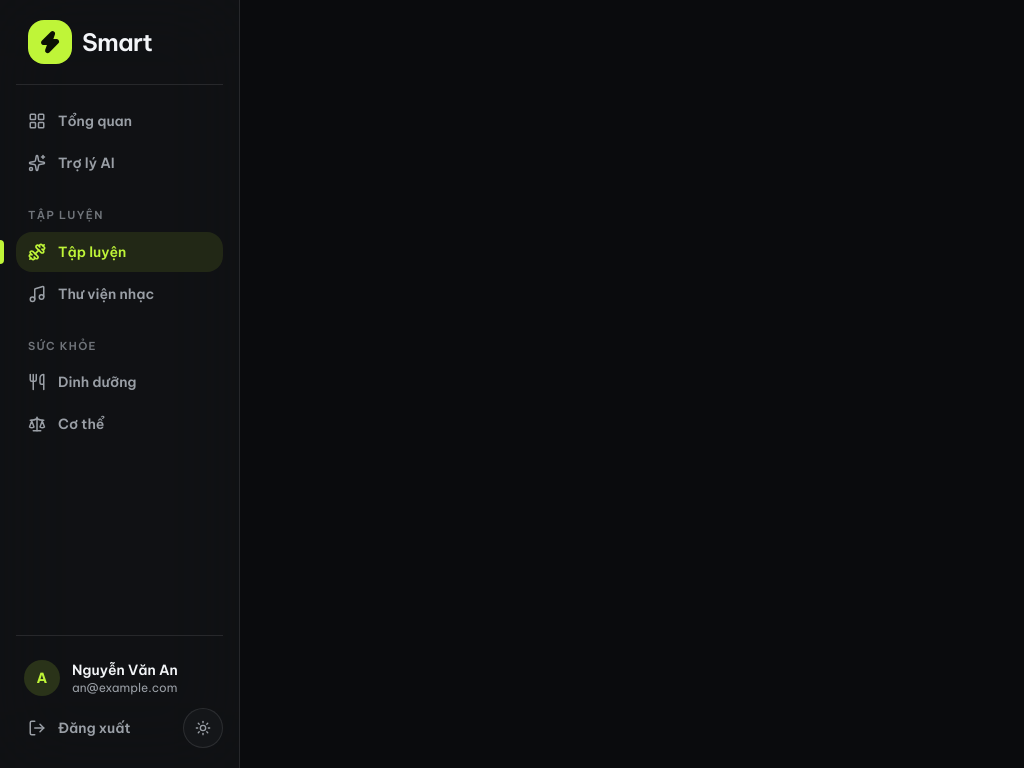
Test: Sidebar › the word Smart goes to the dashboard; the logo opens the theme colour panel instead
Click the button named "Đổi màu giao diện": (50, 42) [28,20,72,64]
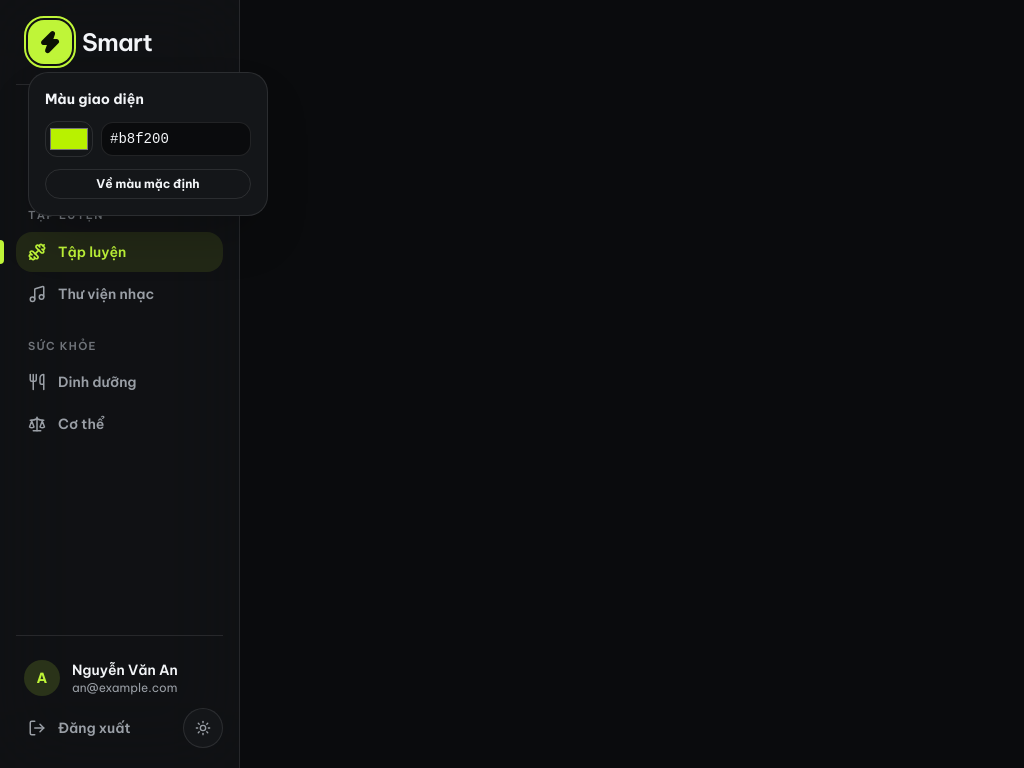
Expected: the dialog "Màu giao diện" is shown, [28,72,268,216]
